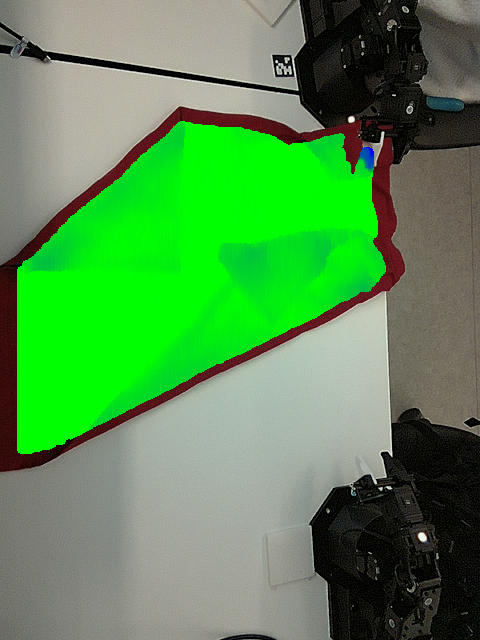V: (253, 284, 299, 332), (152, 238, 196, 284)
